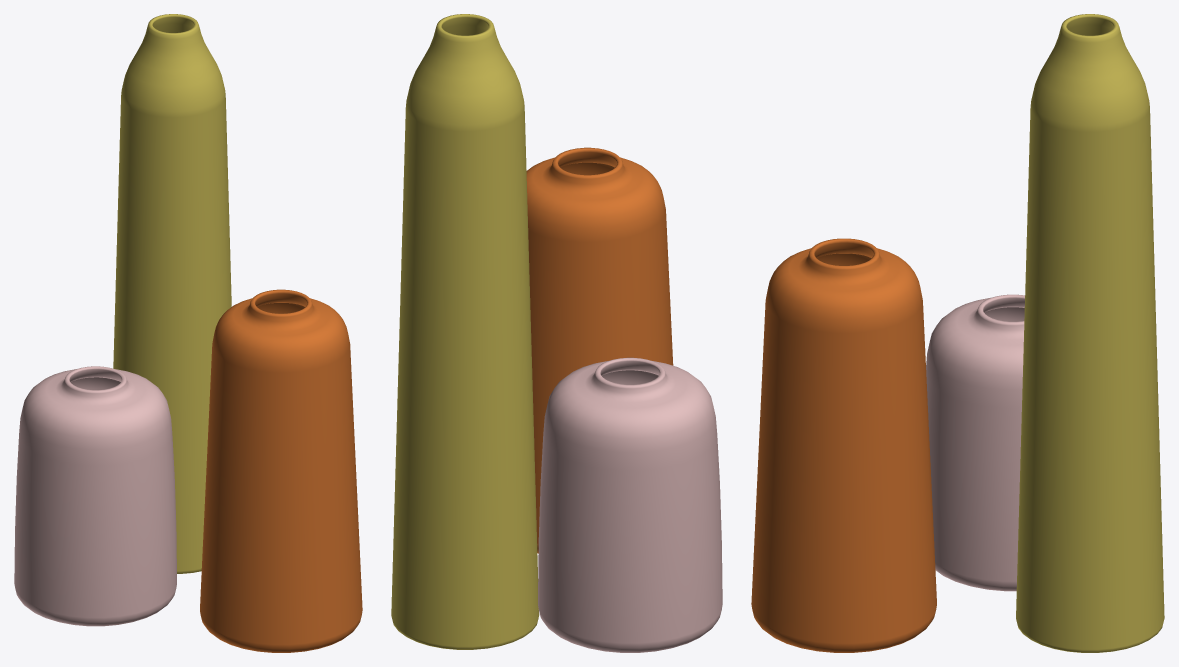
File: Vase02.fbx
The picture shows the model from 3 angles, left to right: view 1: azimuth 30°, elevation 25°; view 2: azimuth 150°, elevation 25°; view 3: azimuth 270°, elevation 25°; orthographic projection. The views are drawn at different scales.
Visible parts, largest first — view 1: Vase02:Mesh3, Vase02:Mesh1, Vase02:Mesh2; view 2: Vase02:Mesh1, Vase02:Mesh2, Vase02:Mesh3; view 3: Vase02:Mesh1, Vase02:Mesh3, Vase02:Mesh2.
Part boxes in pixels (left/top/right/bottom): Vase02:Mesh3: left=200, top=289, right=362, bottom=652; Vase02:Mesh1: left=113, top=14, right=231, bottom=573; Vase02:Mesh2: left=14, top=366, right=176, bottom=626; Vase02:Mesh1: left=391, top=14, right=539, bottom=649; Vase02:Mesh2: left=538, top=357, right=722, bottom=652; Vase02:Mesh3: left=526, top=147, right=673, bottom=553; Vase02:Mesh1: left=1016, top=14, right=1164, bottom=652; Vase02:Mesh3: left=751, top=238, right=936, bottom=652; Vase02:Mesh2: left=926, top=294, right=1024, bottom=591.
Bounding box in the file's own units: 0.2265 × 0.4508 × 0.2823.
